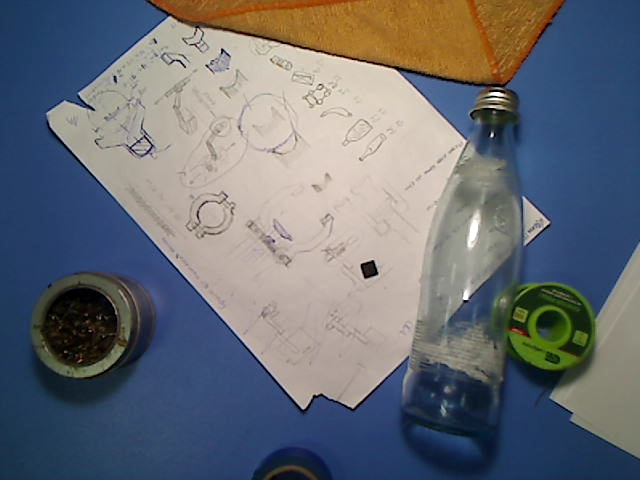bottle: (398, 84, 526, 432)
